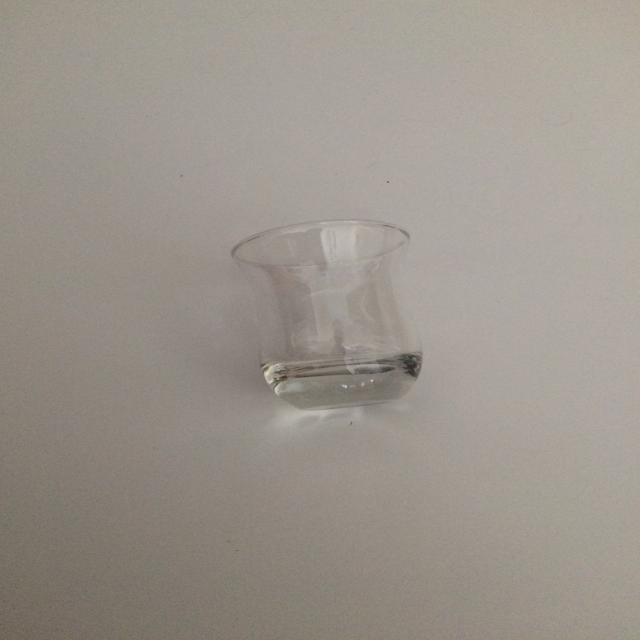glass: (230, 218, 424, 411)
